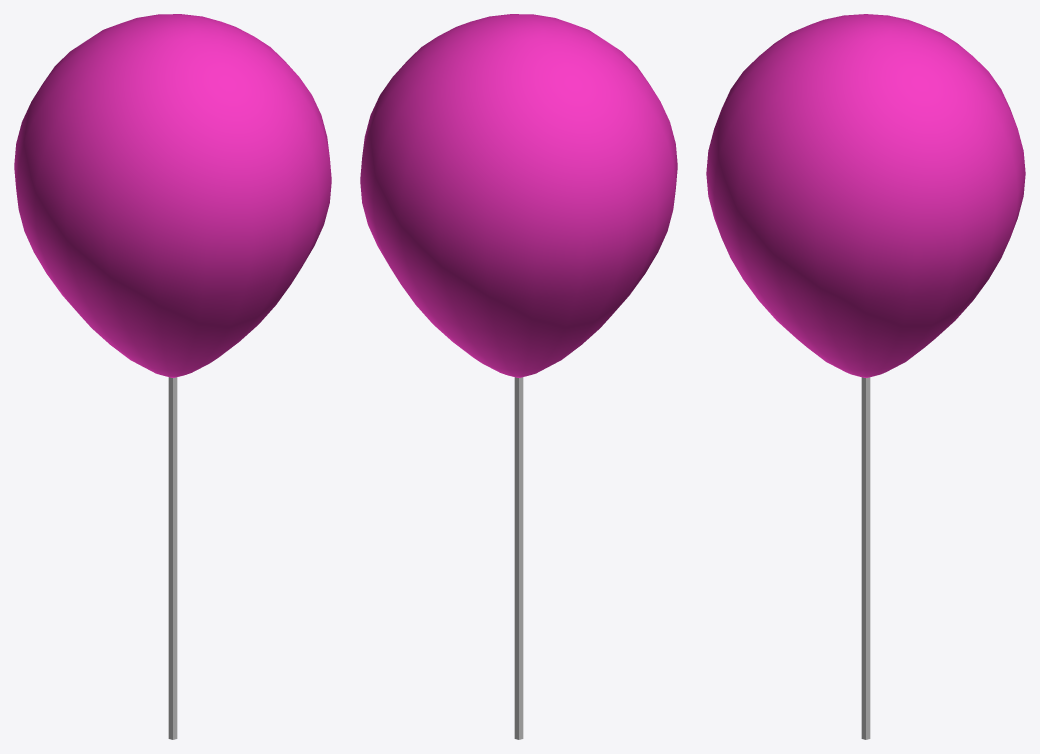
Rendered from BALLOON 5.fbx.
3 renders of one model, left to right at view 1: azimuth 30°, elevation 25°; view 2: azimuth 150°, elevation 25°; view 3: azimuth 270°, elevation 25°, orthographic.
Visible parts, largest first — view 1: pSphere5, pCylinder5; view 2: pSphere5, pCylinder5; view 3: pSphere5, pCylinder5.
Boxes of the visible parts, bbox=[...] form: pSphere5: bbox=[14, 14, 331, 377]; pCylinder5: bbox=[168, 377, 177, 739]; pSphere5: bbox=[360, 14, 677, 377]; pCylinder5: bbox=[514, 377, 523, 739]; pSphere5: bbox=[706, 14, 1025, 377]; pCylinder5: bbox=[861, 377, 870, 739].
Size of the model in its own units: 2 by 4.9 by 2.
Materials: 2 (1 with a texture image).
